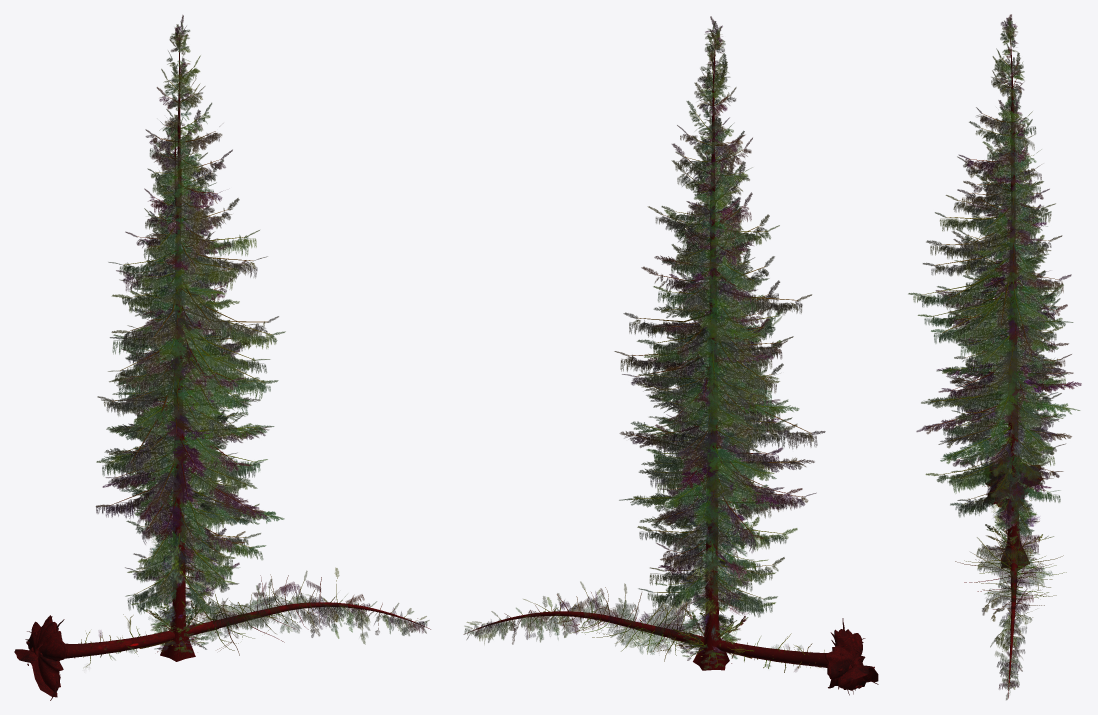
File: trees.glb
3 views of the same model, side by side, from view 1: azimuth 30°, elevation 25°; view 2: azimuth 150°, elevation 25°; view 3: azimuth 270°, elevation 25° (orthographic). The views are drawn at different scales.
Visible parts, largest first — view 1: conifer_2, conifer_0, conifer_3, conifer_1, fallen_tree, fallen_tree_b, fallen_tree_a, fallen_debris; view 2: conifer_2, conifer_3, conifer_0, conifer_1, fallen_tree, fallen_tree_b, fallen_tree_a; view 3: conifer_2, conifer_3, conifer_0, conifer_1, fallen_tree, fallen_tree_b, shrub_1, fallen_tree_a.
Boxes of the visible parts, left/top/right/bottom form: conifer_2: left=108, top=15, right=285, bottom=661; conifer_0: left=95, top=114, right=267, bottom=658; conifer_3: left=101, top=154, right=284, bottom=625; conifer_1: left=122, top=231, right=266, bottom=630; fallen_tree: left=25, top=568, right=430, bottom=700; fallen_tree_b: left=186, top=568, right=428, bottom=655; fallen_tree_a: left=26, top=616, right=174, bottom=700; fallen_debris: left=14, top=604, right=315, bottom=697; conifer_2: left=614, top=16, right=825, bottom=670; conifer_3: left=619, top=164, right=814, bottom=633; conifer_0: left=638, top=116, right=816, bottom=636; conifer_1: left=637, top=242, right=797, bottom=639; fallen_tree: left=465, top=582, right=878, bottom=695; fallen_tree_b: left=464, top=582, right=702, bottom=661; fallen_tree_a: left=716, top=618, right=877, bottom=694; conifer_2: left=908, top=14, right=1071, bottom=569; conifer_3: left=916, top=135, right=1081, bottom=536; conifer_0: left=936, top=96, right=1071, bottom=563; conifer_1: left=925, top=218, right=1065, bottom=540; fallen_tree: left=955, top=456, right=1066, bottom=699; fallen_tree_b: left=972, top=535, right=1063, bottom=699; shrub_1: left=985, top=517, right=1053, bottom=548; fallen_tree_a: left=984, top=457, right=1044, bottom=521.
Size of what is drawn, in the model's own units: 19.57 by 31.32 by 8.52.
5 materials, 5 textured.
